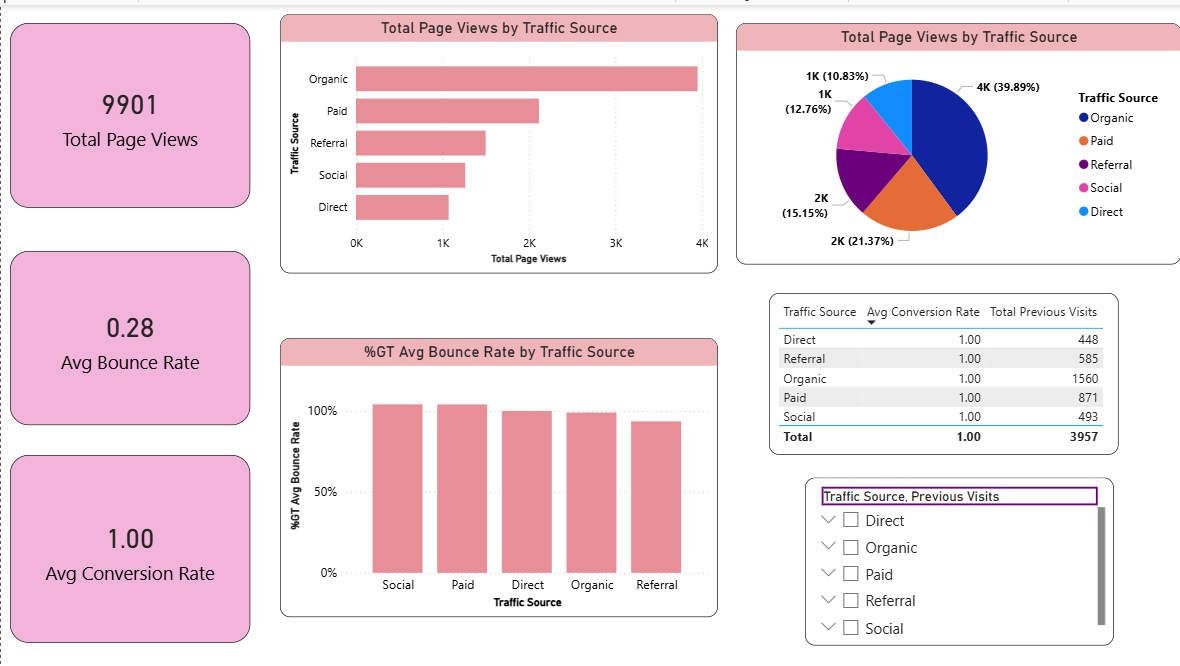

Layout of this report page (visuals, bound fields, positions):
{"tool":"powerbi","page":{"name":"Page 1","canvas":[1280,720],"ordinal":0},"visuals":[{"type":"card","fields":{"Values":["website_traffic.Total Page Views"]},"box":[9.7,19.4,259.1,199.2],"z":0},{"type":"card","fields":{"Values":["website_traffic.Avg Bounce Rate"]},"box":[9.7,265.6,259.1,187.8],"z":1},{"type":"card","fields":{"Values":["website_traffic.Avg Conversion Rate"]},"box":[9.7,485.8,259.1,202.4],"z":2},{"type":"clusteredBarChart","fields":{"Category":["website_traffic.Traffic Source"],"Y":["website_traffic.Total Page Views"]},"box":[300.5,9.4,472.4,279.7],"z":3},{"type":"clusteredColumnChart","fields":{"Category":["website_traffic.Traffic Source"],"Y":["website_traffic.Avg Bounce Rate"]},"box":[301.2,359.5,472.8,301.2],"z":4},{"type":"pieChart","fields":{"Category":["website_traffic.Traffic Source"],"Y":["website_traffic.Total Page Views"]},"box":[793.4,19.4,480.9,260.7],"z":5},{"type":"tableEx","fields":{"Values":["website_traffic.Traffic Source","website_traffic.Avg Conversion Rate","website_traffic.Total Previous Visits"]},"box":[829,310.9,377.3,174.9],"z":6},{"type":"slicer","fields":{"Values":["website_traffic.Traffic Source","website_traffic.Previous Visits"]},"box":[867.9,510.1,333.6,181.4],"z":7}]}

Visuals, with their boxes in screenshot pixels (x1, y1, x2, y2), scaled from the page's 1280x720 canvas onto the 1180x666 screenshot:
card - website_traffic.Total Page Views: (x1=9, y1=18, x2=248, y2=202)
card - website_traffic.Avg Bounce Rate: (x1=9, y1=246, x2=248, y2=419)
card - website_traffic.Avg Conversion Rate: (x1=9, y1=449, x2=248, y2=637)
clusteredBarChart - website_traffic.Traffic Source x website_traffic.Total Page Views: (x1=277, y1=9, x2=713, y2=267)
clusteredColumnChart - website_traffic.Traffic Source x website_traffic.Avg Bounce Rate: (x1=278, y1=333, x2=714, y2=611)
pieChart - website_traffic.Traffic Source x website_traffic.Total Page Views: (x1=731, y1=18, x2=1175, y2=259)
tableEx - website_traffic.Traffic Source x website_traffic.Avg Conversion Rate: (x1=764, y1=288, x2=1112, y2=449)
slicer - website_traffic.Traffic Source x website_traffic.Previous Visits: (x1=800, y1=472, x2=1108, y2=640)
